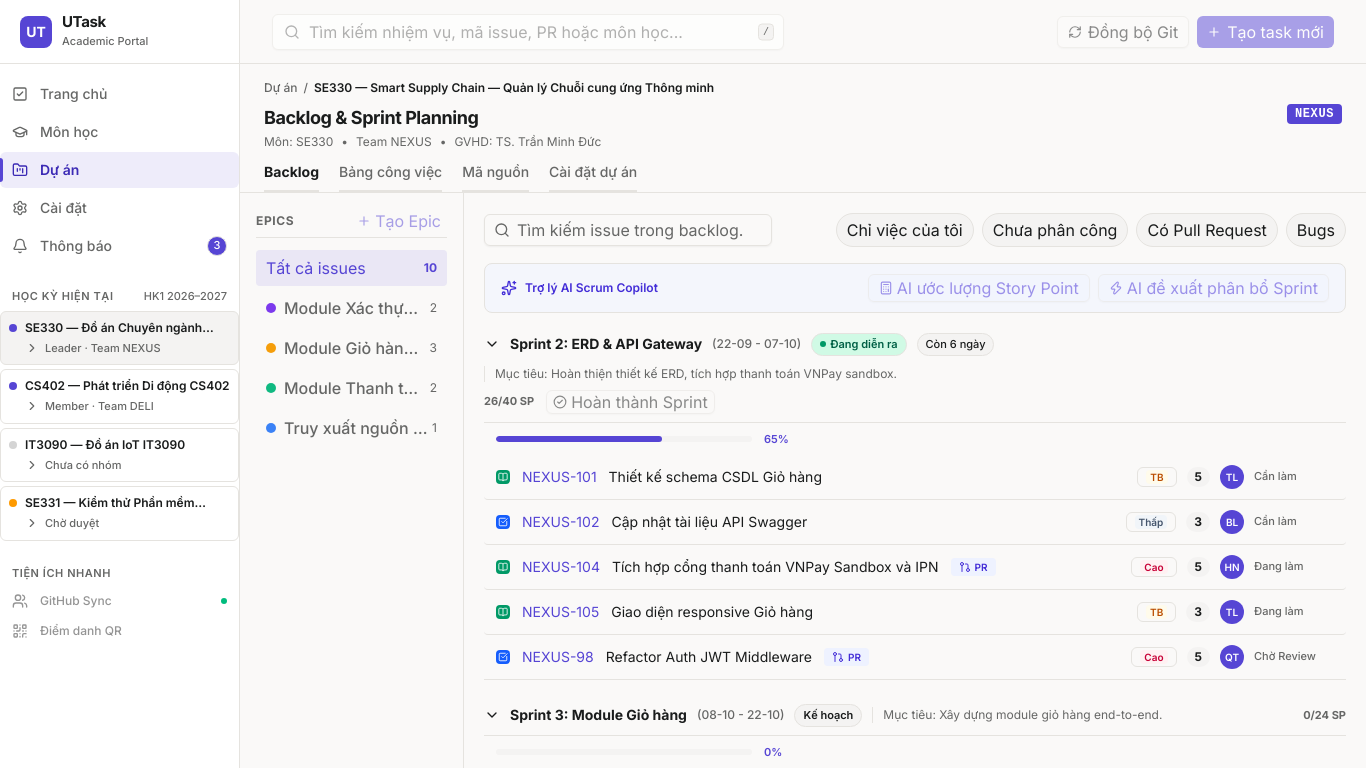
project workspace layout › navigates client-side from backlog to board keeping projectId
Check: the heading "Backlog & Sprint Planning" is shown, box top-left (264, 107), bottom-right (478, 128)
Click the link "Bảng công việc" at (391, 175), box top-left (339, 158), bottom-right (442, 192)
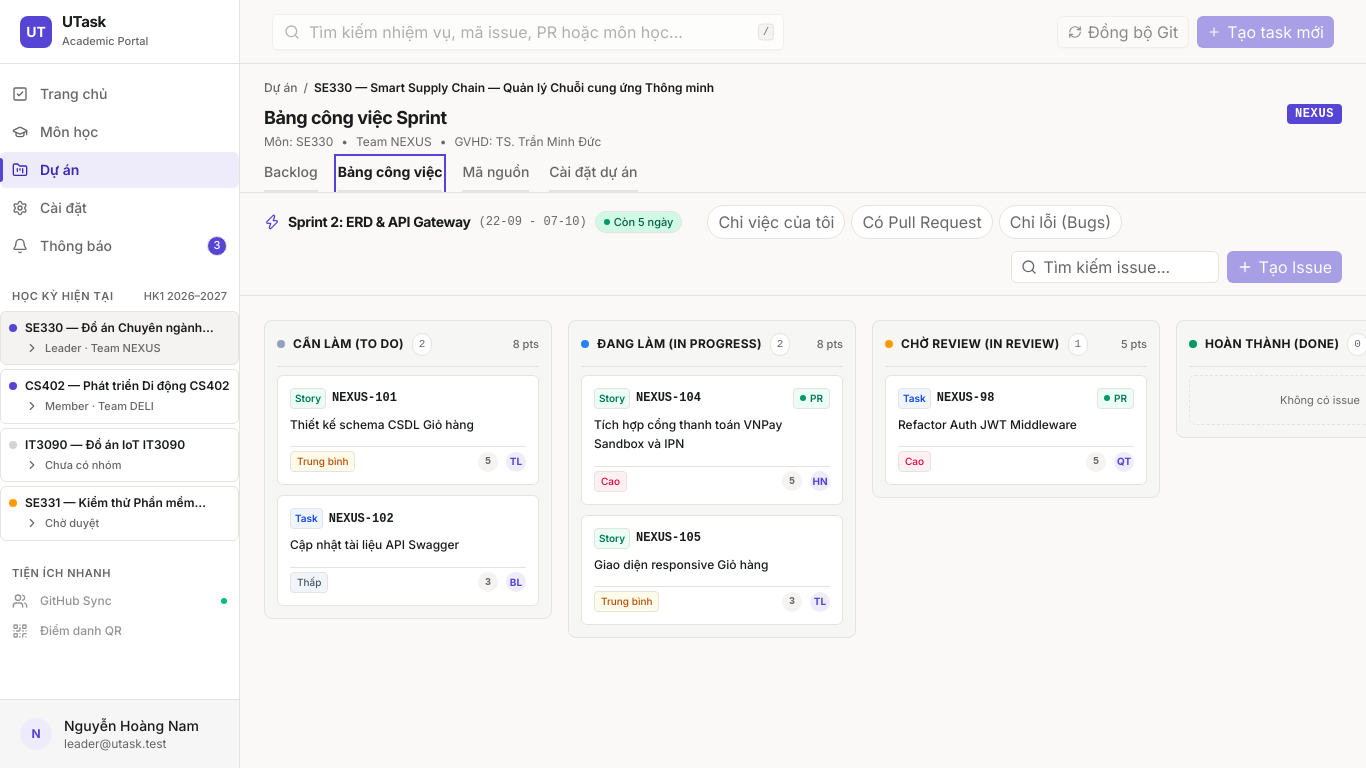
Check: the heading "Bảng công việc Sprint" is shown, box top-left (264, 107), bottom-right (447, 128)
